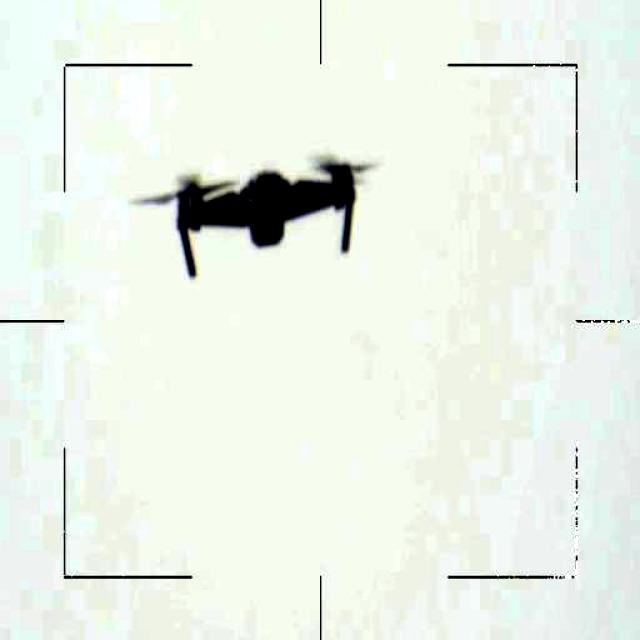bird: (126, 149, 378, 280)
